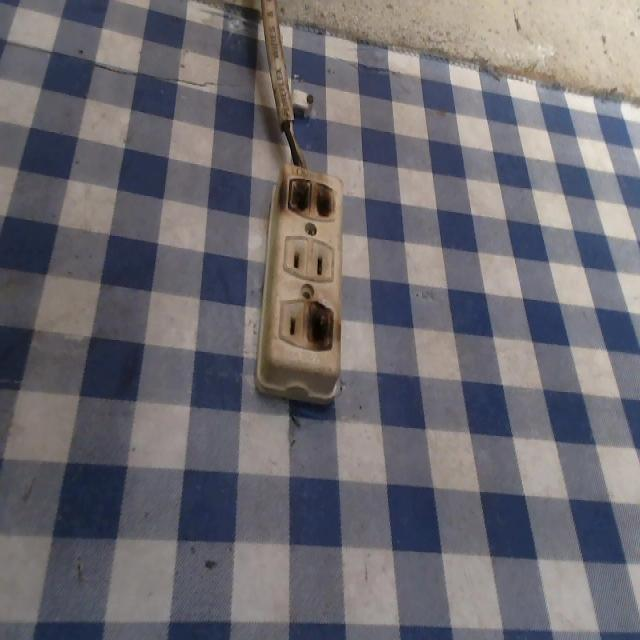-: (271, 170, 341, 226), (304, 297, 342, 356)
